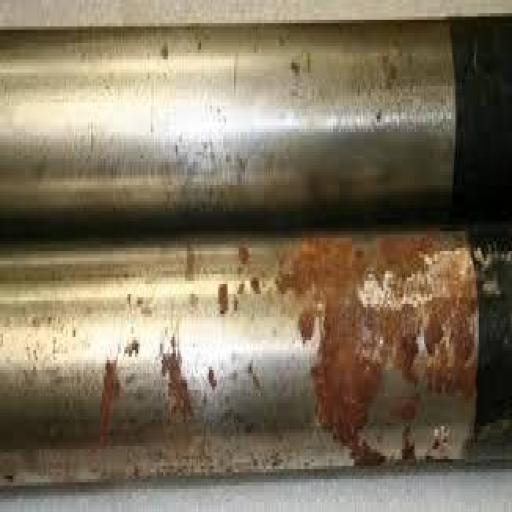segmentation: (270, 208, 504, 472), (152, 336, 195, 423), (101, 360, 119, 436)
